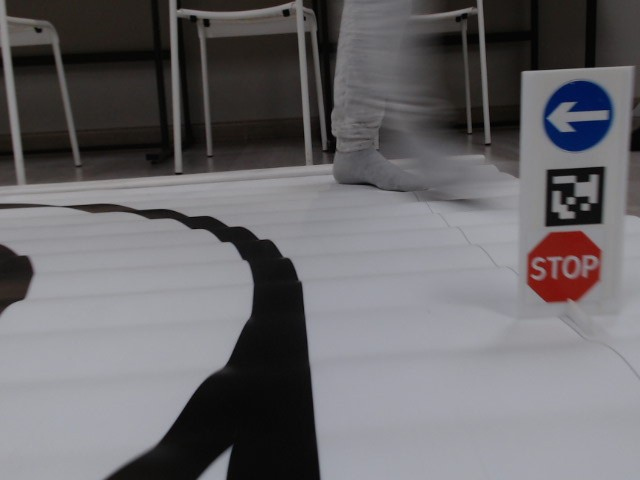Stop: (527, 229, 603, 303)
